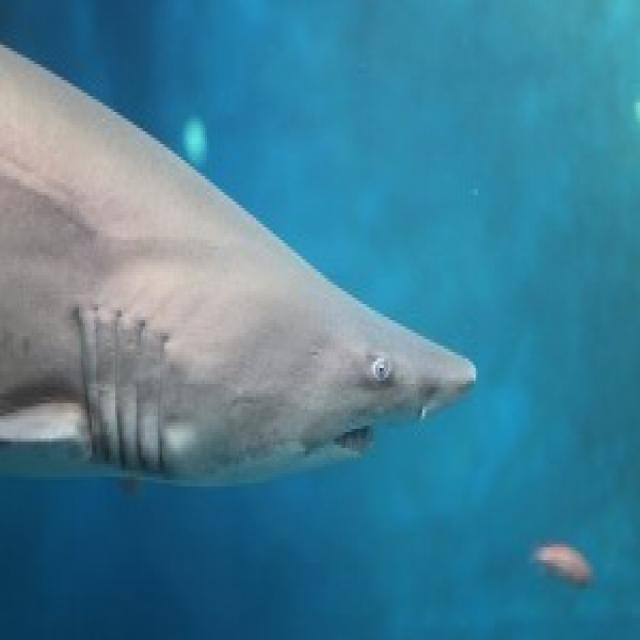Shark: (0, 16, 493, 539)
